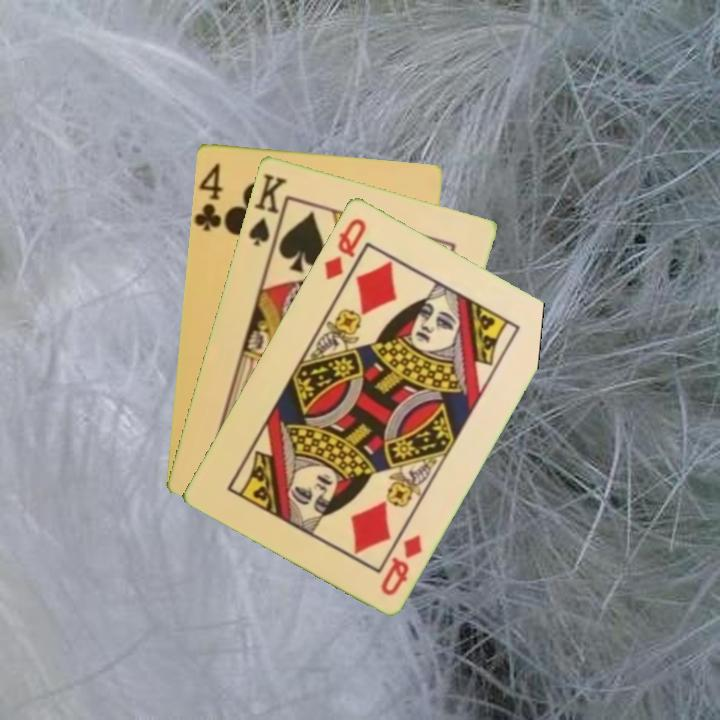4c: (192, 159, 225, 234)
Ks: (244, 169, 290, 253)
Qd: (320, 214, 370, 283), (376, 530, 425, 598)
